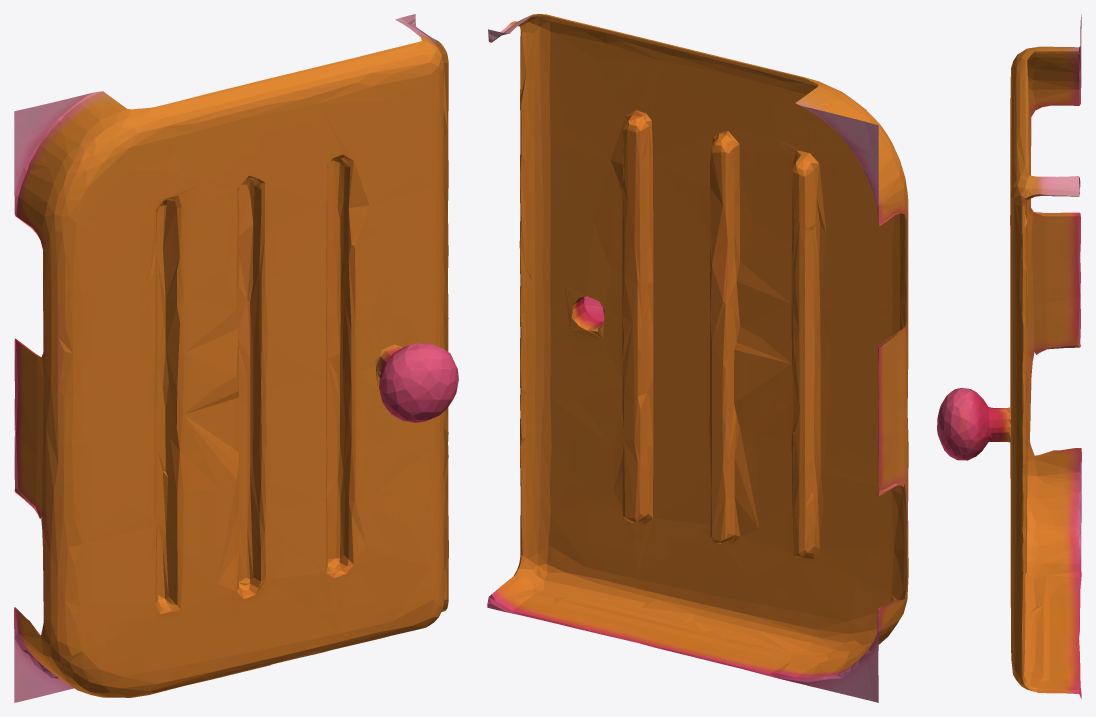
The model's file is door_left.glb.
The picture shows the model from 3 angles, left to right: view 1: azimuth 30°, elevation 25°; view 2: azimuth 150°, elevation 25°; view 3: azimuth 270°, elevation 25°; orthographic projection. The views are drawn at different scales.
Visible parts, largest first — view 1: source_surface_0; view 2: source_surface_0; view 3: source_surface_0.
Part boxes in pixels (x1=…): source_surface_0: x1=14, y1=14, x2=458, y2=702; source_surface_0: x1=487, y1=14, x2=908, y2=702; source_surface_0: x1=937, y1=14, x2=1081, y2=698.
Size of the model in its own units: 0.0612 by 0.0864 by 0.0219.
Materials: 1 (1 with a texture image).
